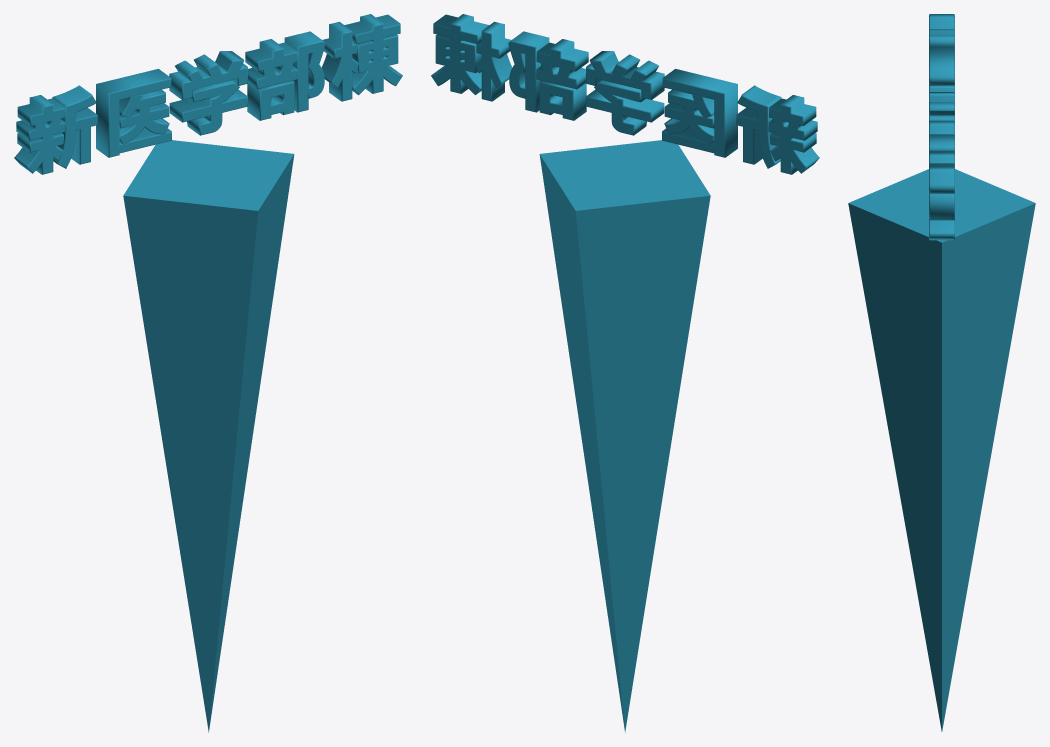
File: ShinIgakubutou.glb
3 renders of one model, left to right at view 1: azimuth 30°, elevation 25°; view 2: azimuth 150°, elevation 25°; view 3: azimuth 270°, elevation 25°, orthographic. The views are drawn at different scales.
Visible parts, largest first — view 1: Cone, Text.002; view 2: Cone, Text.002; view 3: Cone, Text.002.
Boxes of the visible parts, bbox=[...] form: Cone: bbox=[123, 140, 294, 732]; Text.002: bbox=[14, 14, 402, 174]; Cone: bbox=[539, 140, 710, 732]; Text.002: bbox=[431, 14, 819, 174]; Cone: bbox=[848, 169, 1035, 731]; Text.002: bbox=[929, 14, 954, 240].
Bounding box in the file's own units: 3.53 × 6.03 × 1.6.
